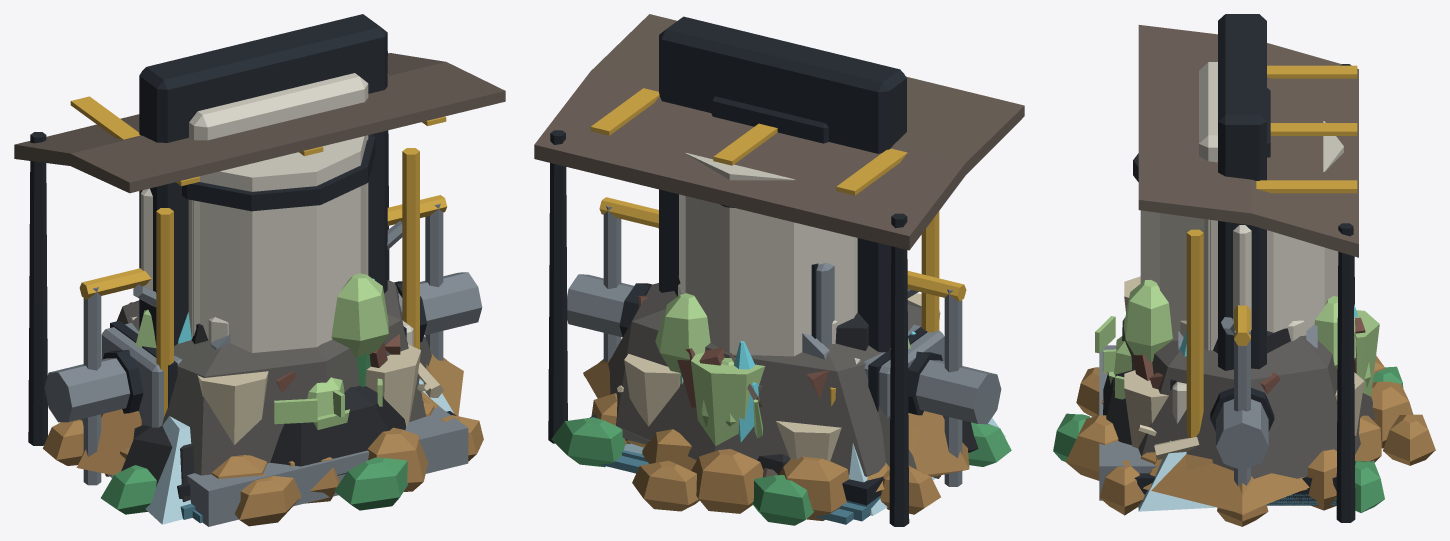
Rendered from dressing-kit.glb.
3 views of the same model, side by side, from view 1: azimuth 30°, elevation 25°; view 2: azimuth 150°, elevation 25°; view 3: azimuth 270°, elevation 25° (orthographic). The views are drawn at different scales.
Parts seen in each view (by area): view 1: tank, door-frame, awning-cloth, host-rock, threshold, main-pipe, door-leaf, awning-post--1, slag-1, tank-band-1.55, pod-5, sediment (+24 smaller); view 2: awning-cloth, door-frame, tank, host-rock, main-pipe, awning-post--1, awning-post-+1, chorus-shell-2, burrow-rim-3, sediment, pod-1, trampled-tuft-1 (+27 smaller); view 3: awning-cloth, host-rock, door-frame, tank, awning-post-+1, sediment, grab-rail-+1, main-pipe, pod-5, door-leaf, trampled-tuft-2, burrow-rim-9 (+28 smaller).
Boxes of the visible parts, <box> form: tank: <box>188,135,366,352</box>; door-frame: <box>139,14,387,345</box>; awning-cloth: <box>14,53,505,193</box>; host-rock: <box>117,280,431,475</box>; threshold: <box>187,406,468,526</box>; main-pipe: <box>44,272,482,422</box>; door-leaf: <box>189,73,368,335</box>; awning-post--1: <box>28,132,47,445</box>; slag-1: <box>270,385,405,475</box>; tank-band-1.55: <box>182,134,375,211</box>; pod-5: <box>331,273,388,356</box>; sediment: <box>76,356,463,475</box>; awning-cloth: <box>534,14,1024,250</box>; door-frame: <box>659,16,906,352</box>; tank: <box>679,153,857,356</box>; host-rock: <box>608,283,921,476</box>; main-pipe: <box>567,274,1001,424</box>; awning-post--1: <box>889,213,909,526</box>; awning-post-+1: <box>548,130,567,443</box>; chorus-shell-2: <box>691,353,765,446</box>; burrow-rim-3: <box>691,449,763,513</box>; sediment: <box>583,364,969,476</box>; pod-1: <box>655,293,710,372</box>; trampled-tuft-1: <box>551,417,624,467</box>; awning-cloth: <box>1138,25,1358,257</box>; host-rock: <box>1122,317,1374,478</box>; door-frame: <box>1218,14,1266,370</box>; tank: <box>1140,121,1343,350</box>; awning-post-+1: <box>1336,223,1355,522</box>; sediment: <box>1143,455,1309,513</box>; grab-rail-+1: <box>1186,229,1203,437</box>; main-pipe: <box>1216,399,1268,470</box>; pod-5: <box>1123,279,1172,361</box>; door-leaf: <box>1199,62,1217,350</box>; trampled-tuft-2: <box>1383,414,1435,465</box>; burrow-rim-9: <box>1066,415,1118,480</box>.
Size of the model in its own units: 2.4 by 2.39 by 2.03.
